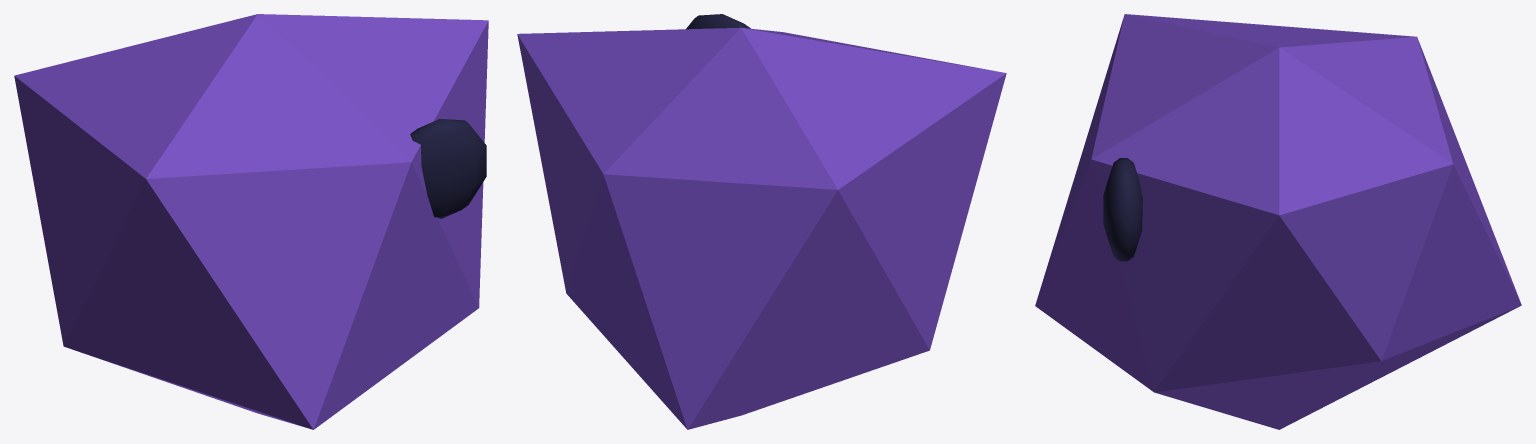
Rendered from Prop_Space_Asteroid.fbx.
3 views of the same model, side by side, from view 1: azimuth 30°, elevation 25°; view 2: azimuth 150°, elevation 25°; view 3: azimuth 270°, elevation 25° (orthographic). The views are drawn at different scales.
Parts seen in each view (by area): view 1: Prop_Space_Asteroid; view 2: Prop_Space_Asteroid; view 3: Prop_Space_Asteroid.
Boxes of the visible parts, <box> form: Prop_Space_Asteroid: <box>14,14,488,429</box>; Prop_Space_Asteroid: <box>517,14,1006,429</box>; Prop_Space_Asteroid: <box>1035,14,1521,429</box>.
Bounding box in the file's own units: 1.06 × 0.9492 × 1.1.
